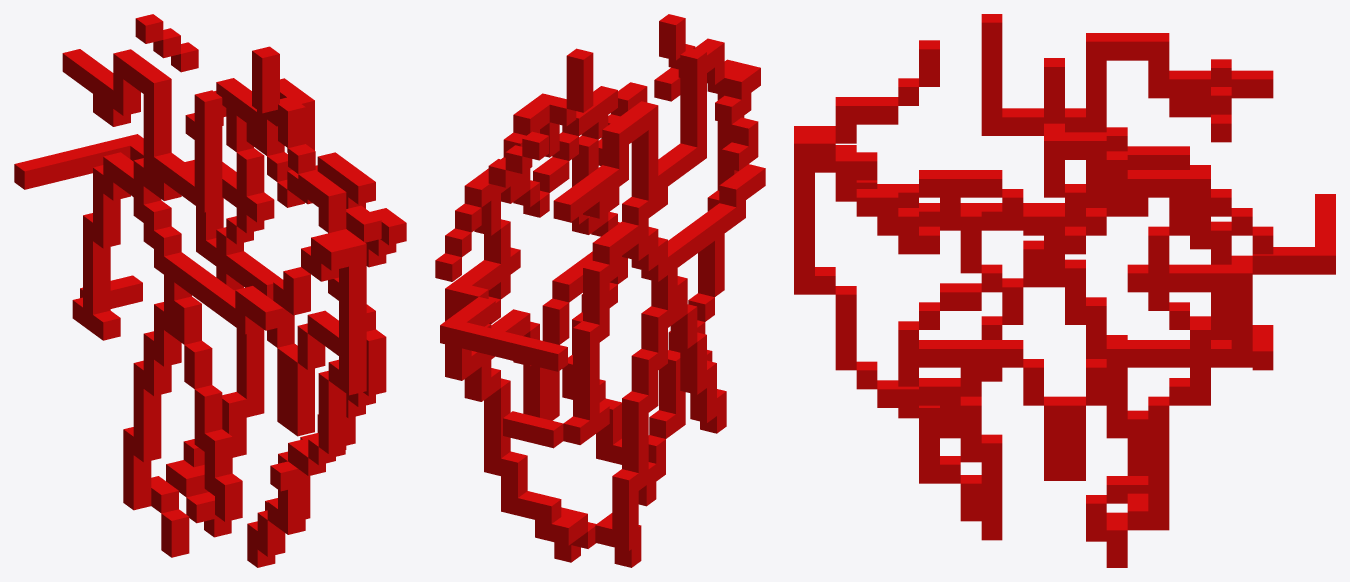
File: tripasdogolem-5.obj
3 renders of one model, left to right at view 1: azimuth 30°, elevation 25°; view 2: azimuth 150°, elevation 25°; view 3: azimuth 270°, elevation 25°, orthographic. The views are drawn at different scales.
Size of the model in its own units: 0.9 by 2.7 by 2.6.
Materials: 1 (1 with a texture image).
